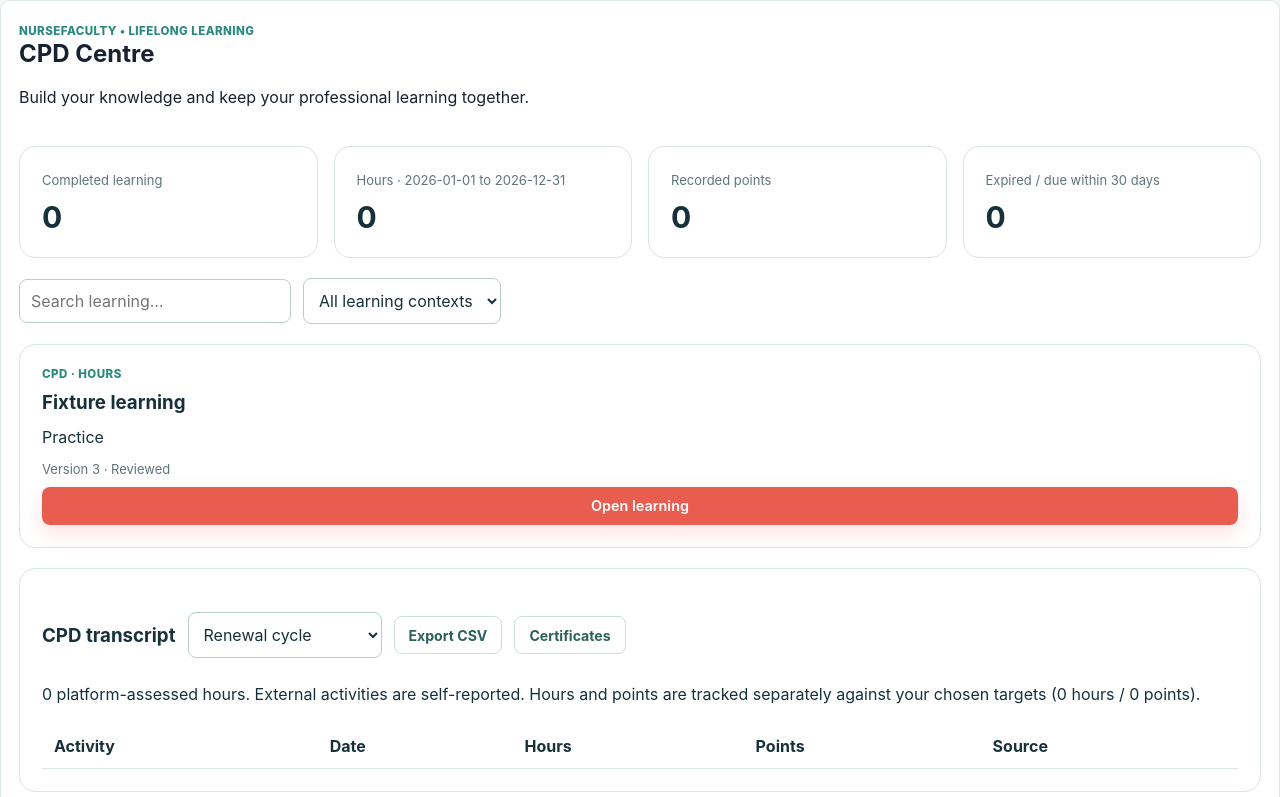
Scenario: professional learning workflows › requires all answers and grades through the backend before displaying feedback
The width and height of the screenshot is (1280, 797).
Step 1. Click the button "Open learning" → [640, 506], box [42, 487, 1238, 525]
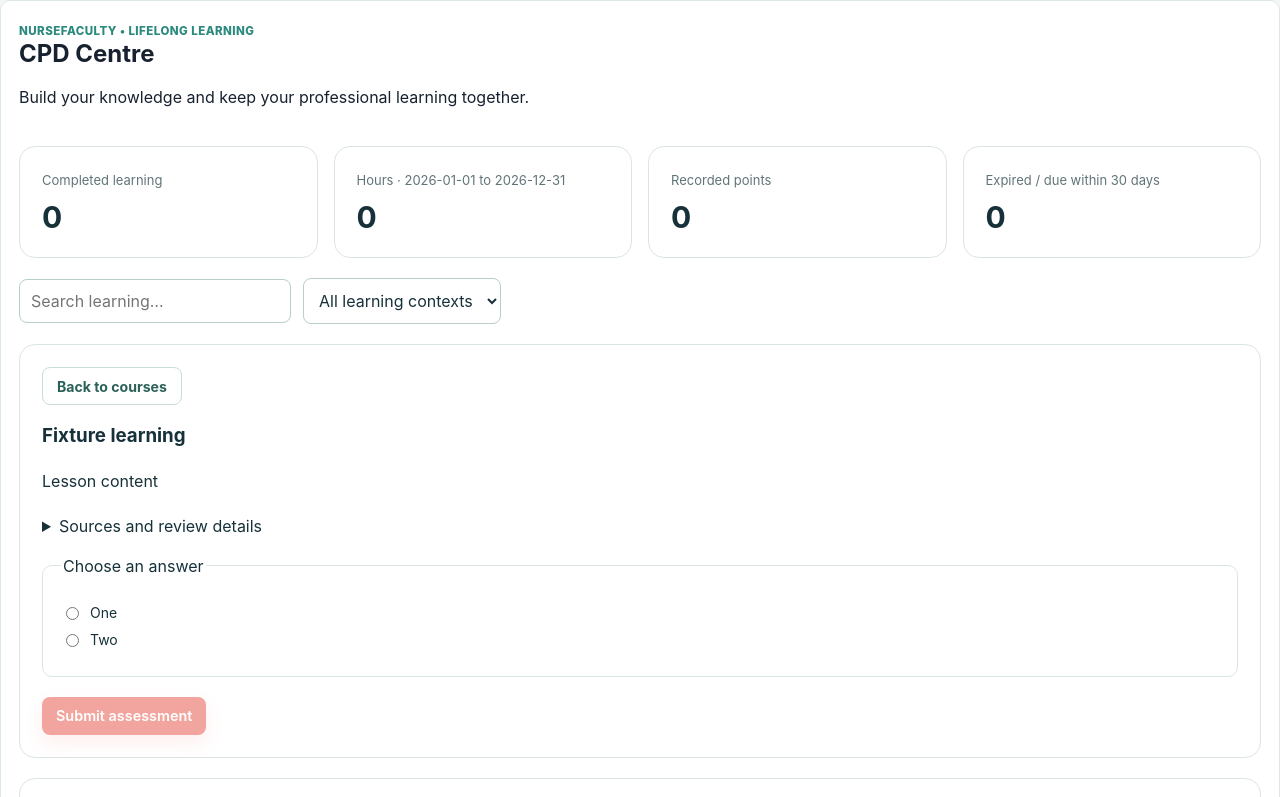
Expected: the text "Server feedback" is not shown
Expected: the button "Submit assessment" is disabled, [42, 697, 206, 735]
Step 2. Click the radio button labelled "Two" → [72, 641], box [66, 634, 79, 647]
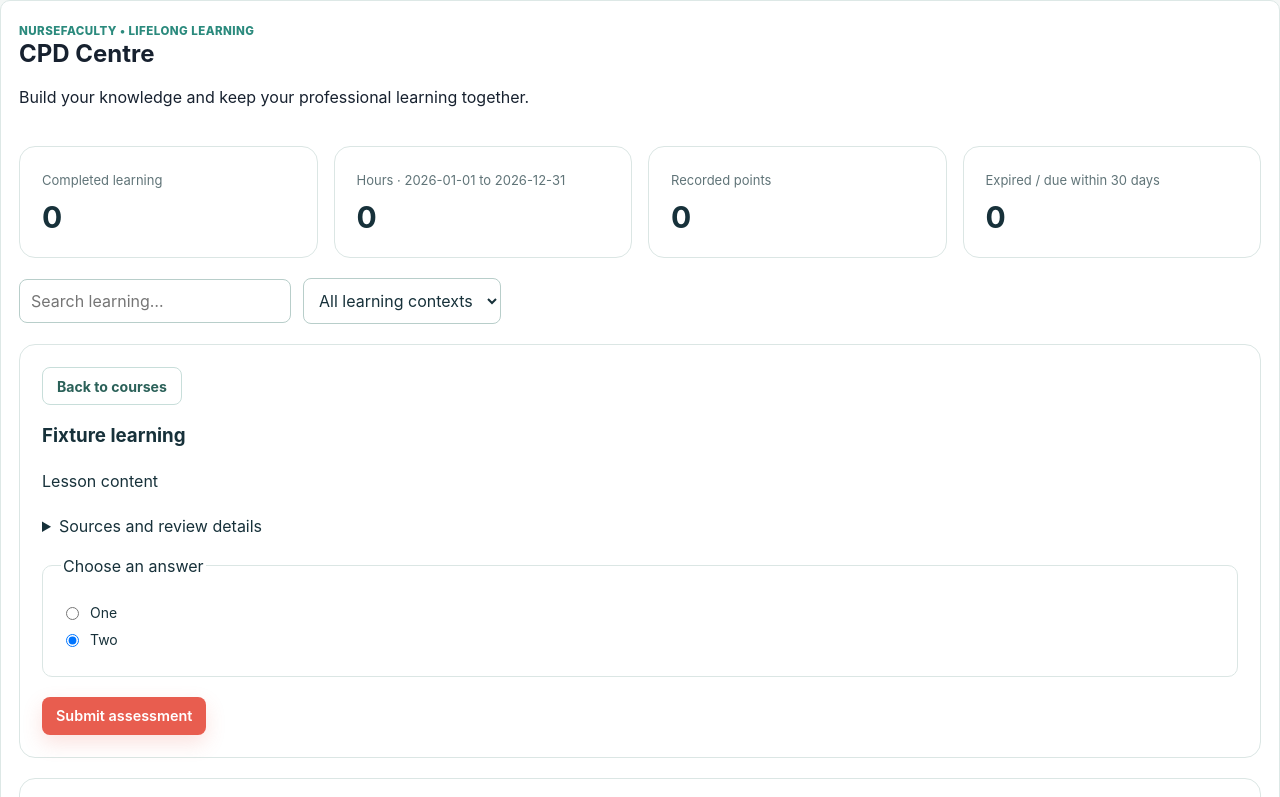
Step 3. Click the button "Submit assessment" → [124, 716], box [42, 697, 206, 735]
(page scrolled)
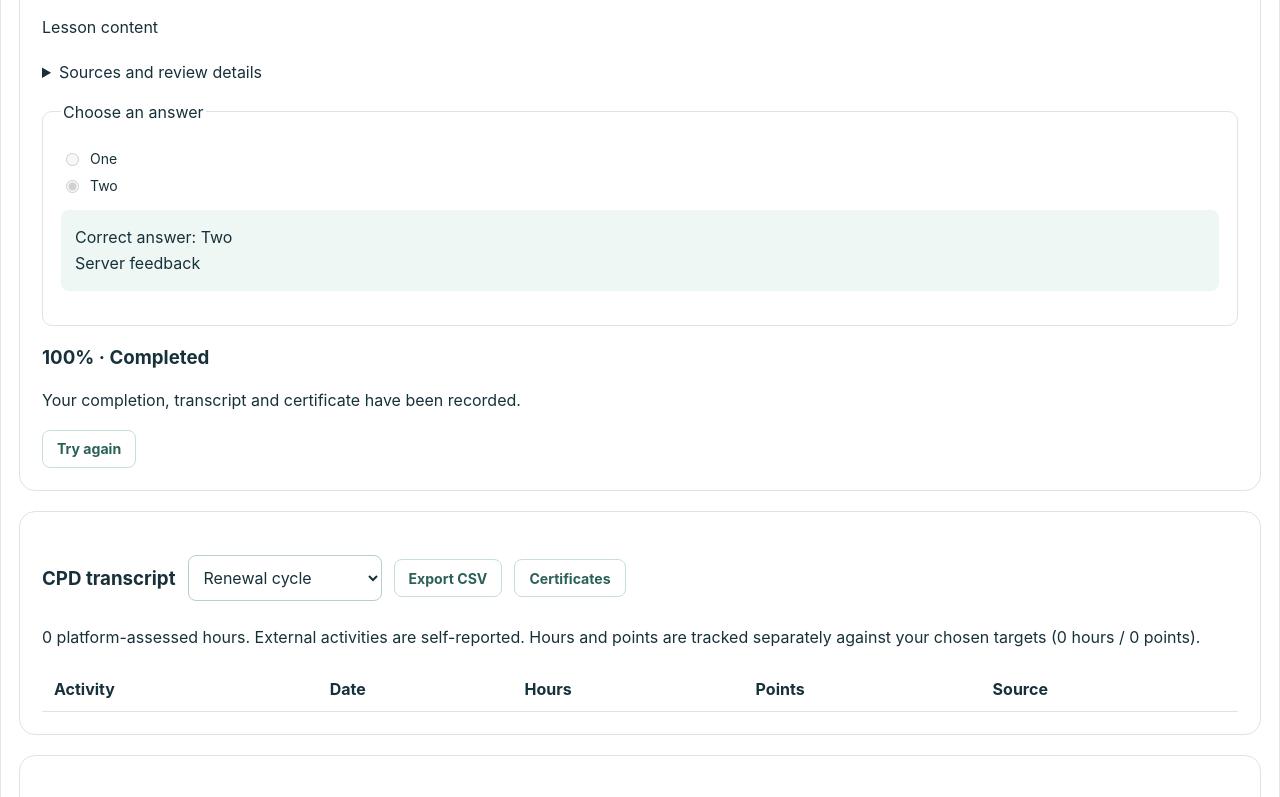
Expected: the text "Your completion, transcript and certificate" is shown, [42, 390, 521, 410]
